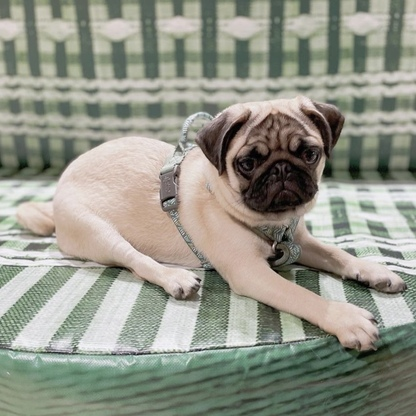Pug: (12, 91, 412, 355)
